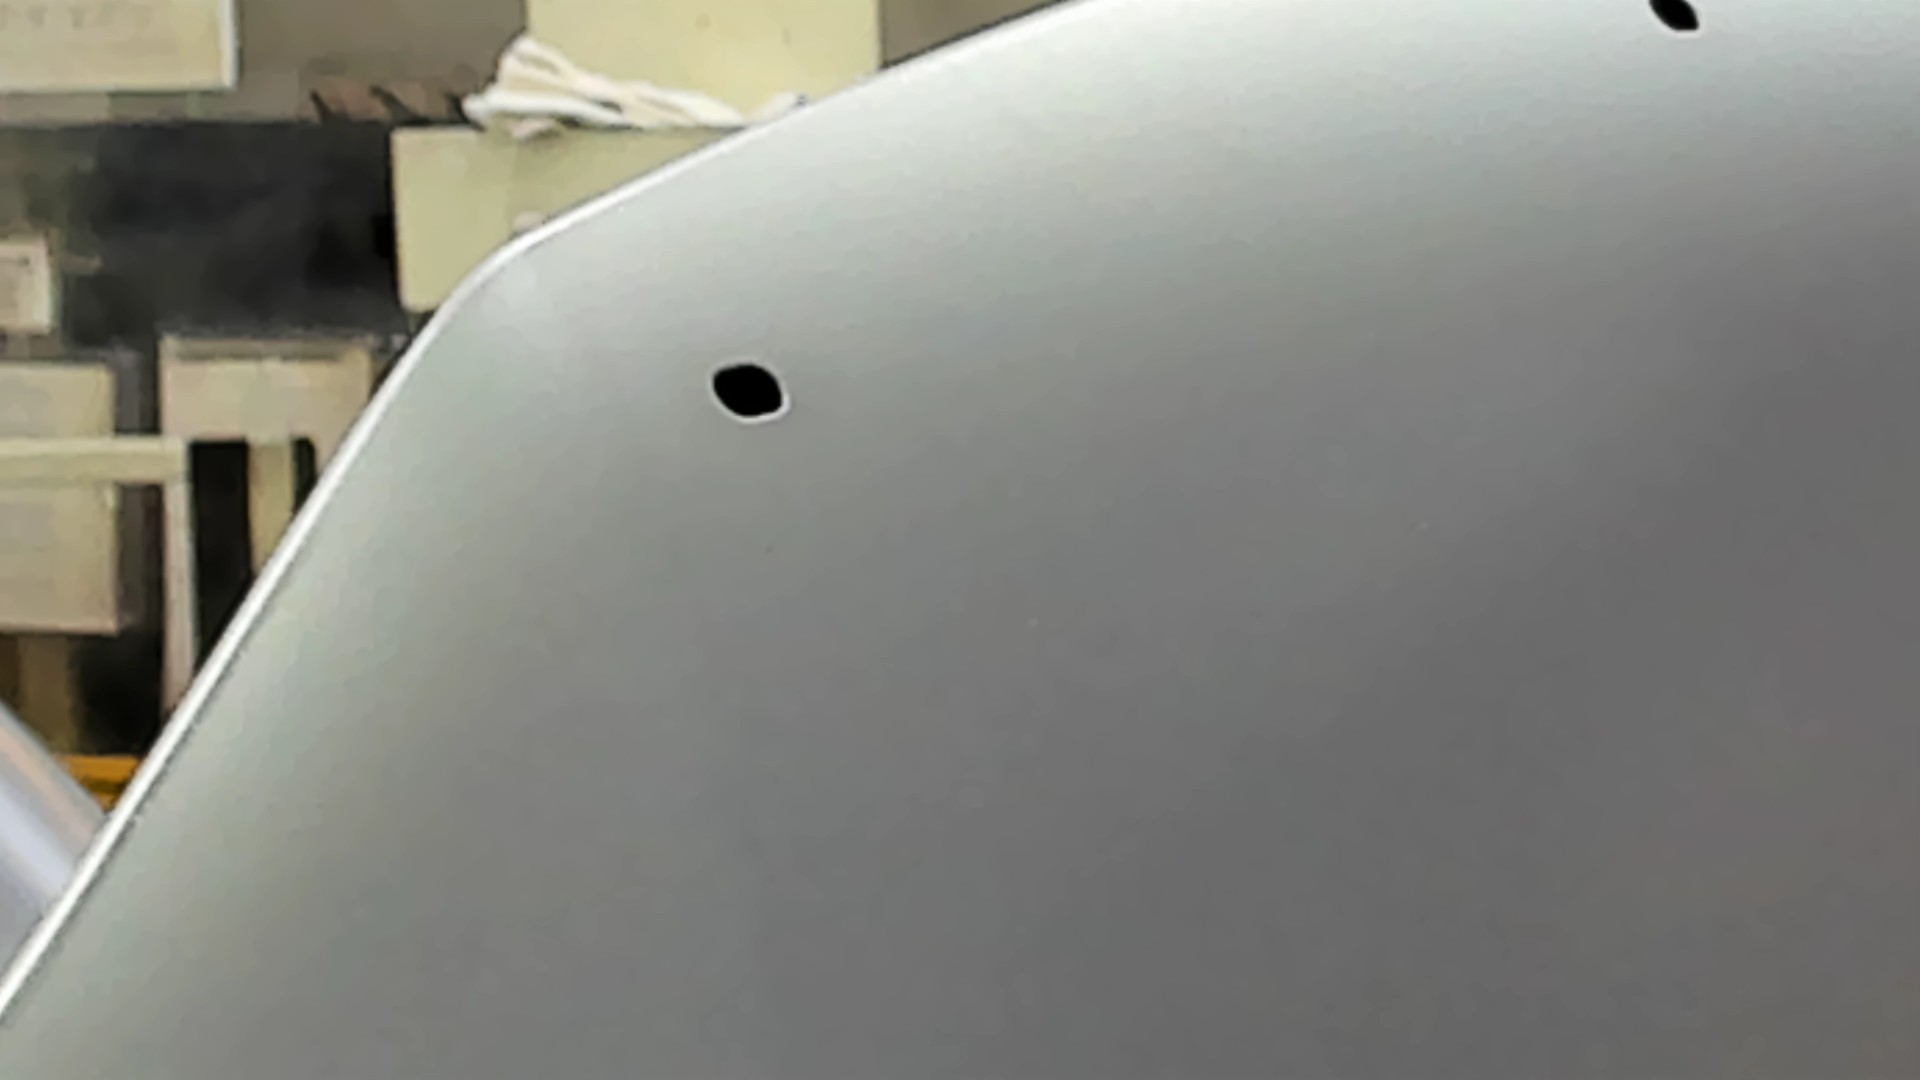amorfo: (707, 357, 793, 425), (1644, 1, 1705, 38)
